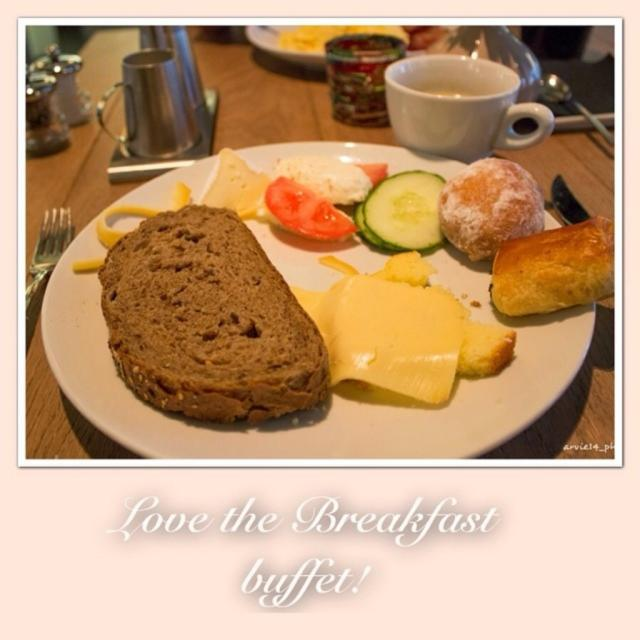Tea: (412, 88, 475, 102)
